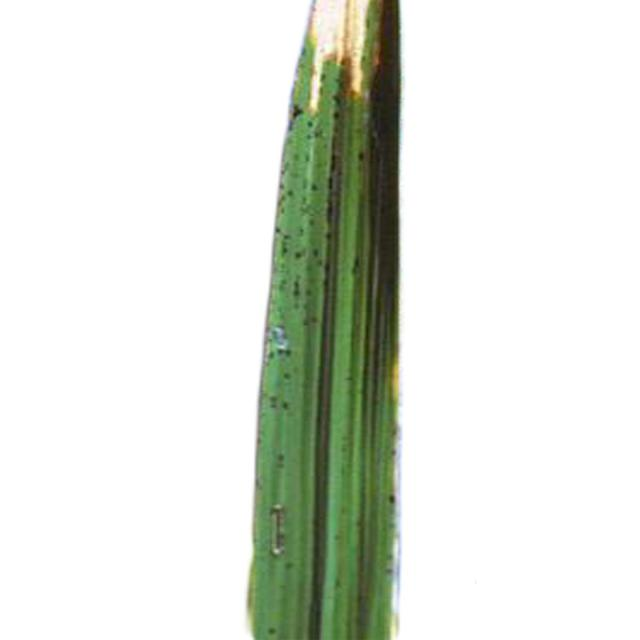Leaf scald: (236, 1, 460, 640)
